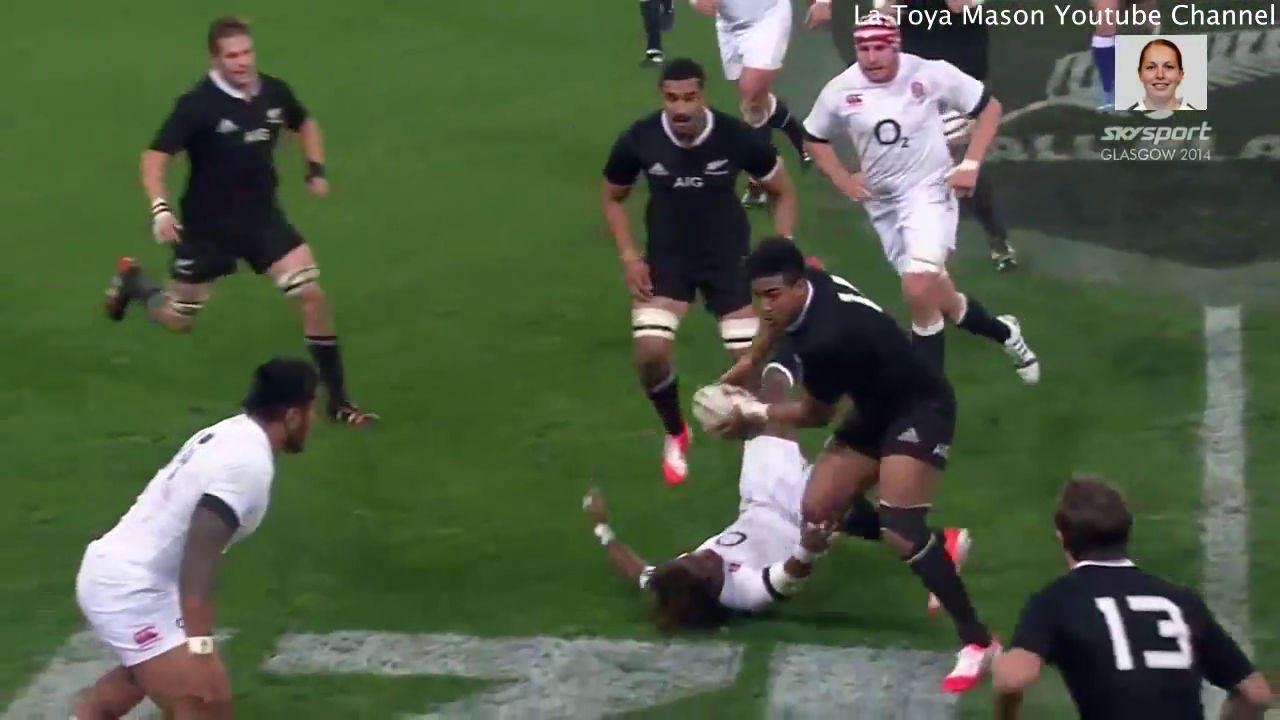ball: (679, 371, 780, 448)
player: (679, 226, 1007, 689), (92, 9, 388, 429), (55, 348, 325, 720), (798, 20, 1055, 395), (592, 60, 813, 489), (573, 430, 985, 626), (989, 452, 1274, 720)
